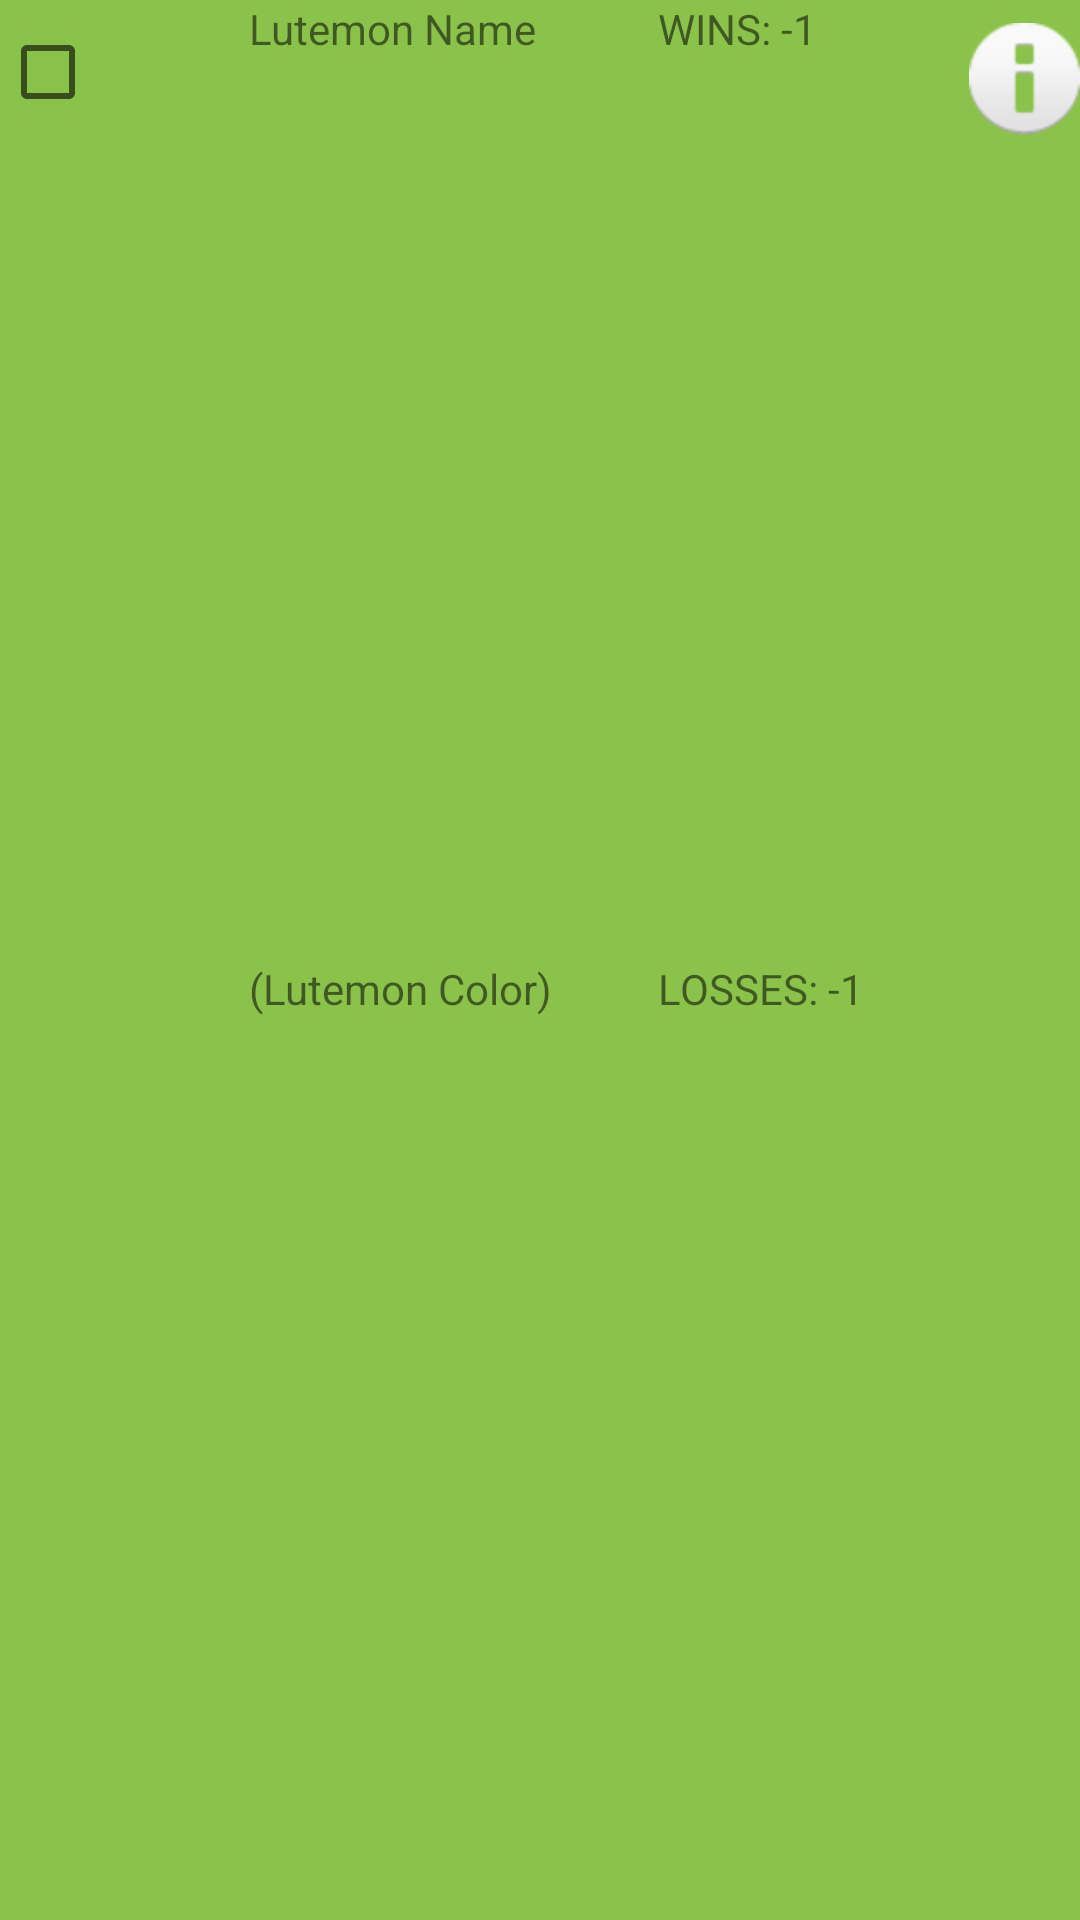

Named icons in this screenshot (1080 x 1920) and their bounding boxes, (x1, y1, x2, y2):
info: (969, 23, 1080, 134)
